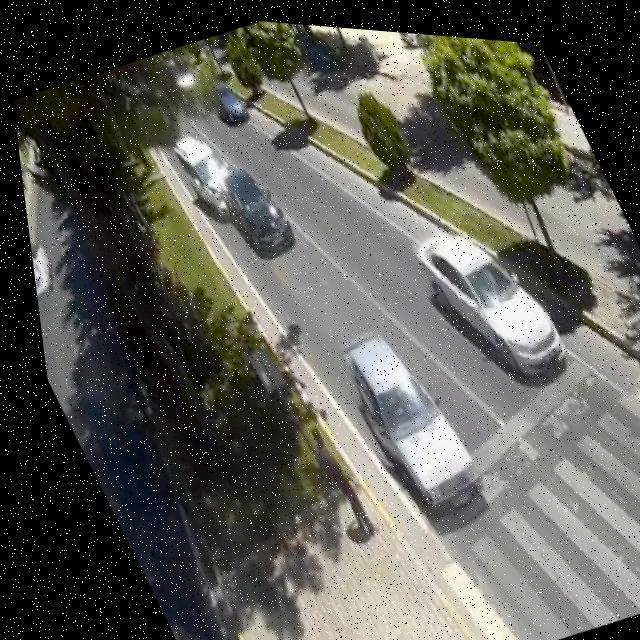Car Accident Detector - v4 Generation1 Exported: (163, 133, 298, 262)
